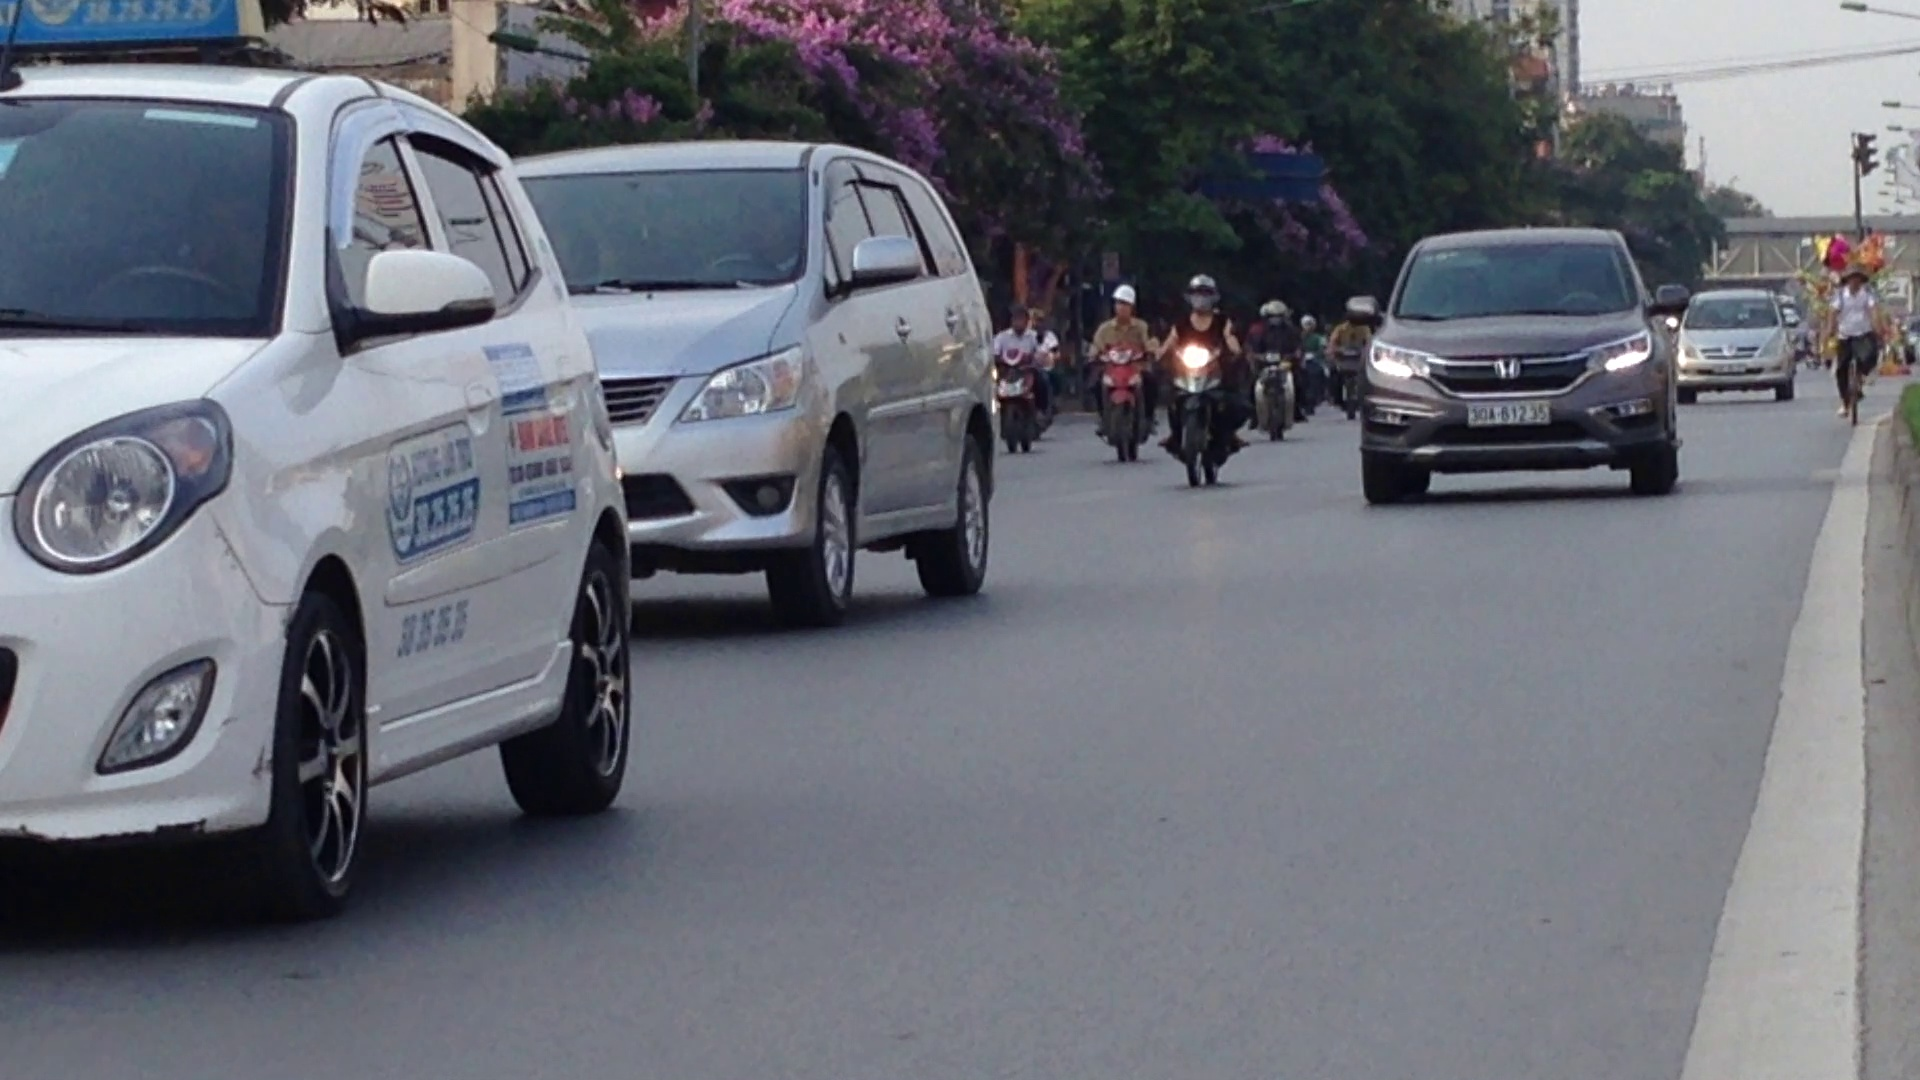vehicle-plate: (1463, 398, 1550, 428)
